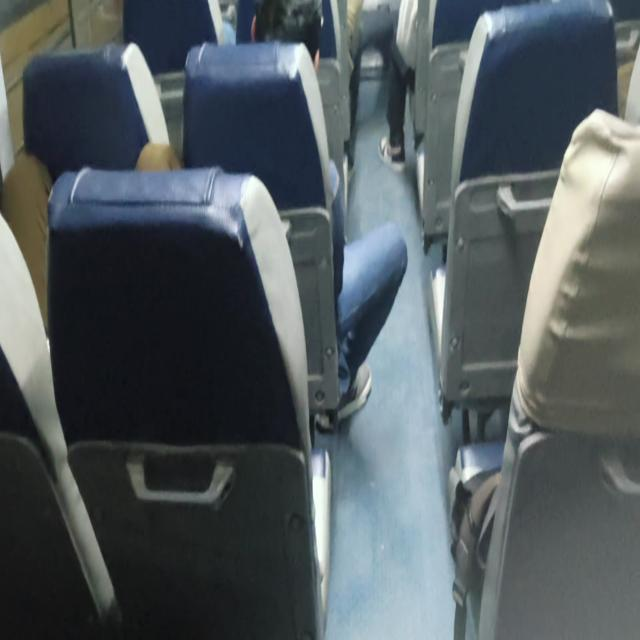person: (449, 44, 639, 636), (135, 23, 408, 429), (334, 217, 408, 423), (377, 0, 418, 172), (250, 0, 324, 73)
